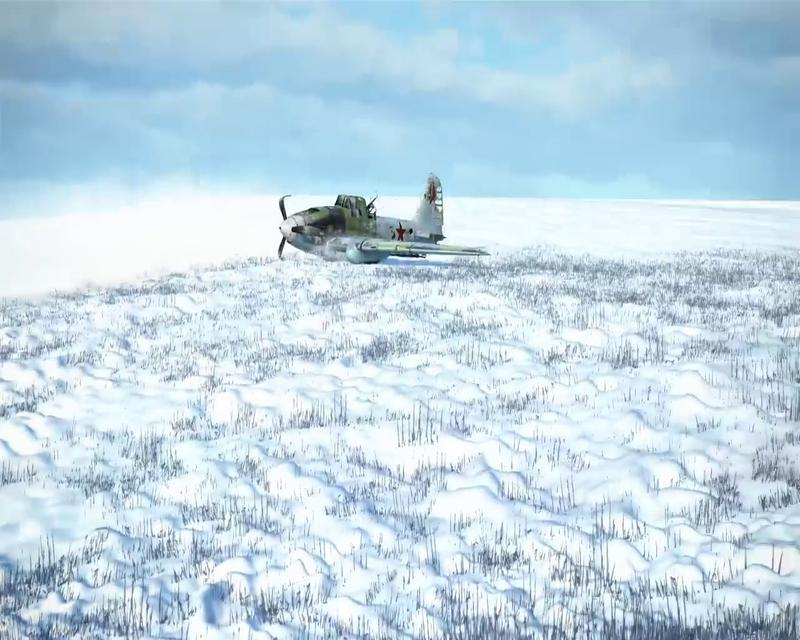UAV: (275, 171, 491, 264)
